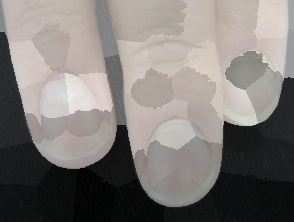SJS-TEN: (19, 51, 135, 188), (126, 100, 232, 222), (218, 37, 290, 140)
